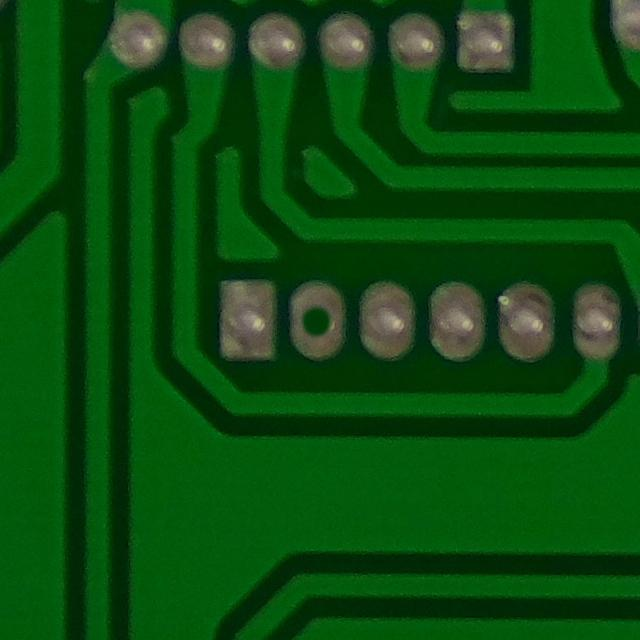missing_hole: (281, 273, 359, 368)
